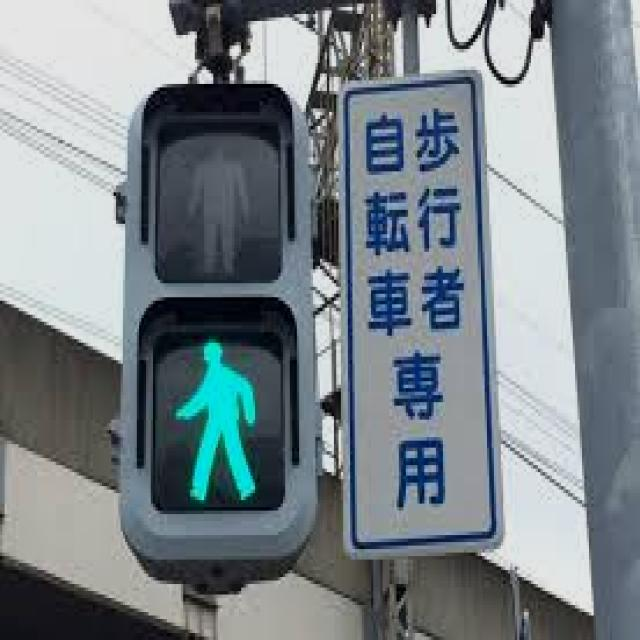trafficlight: (116, 87, 315, 556)
